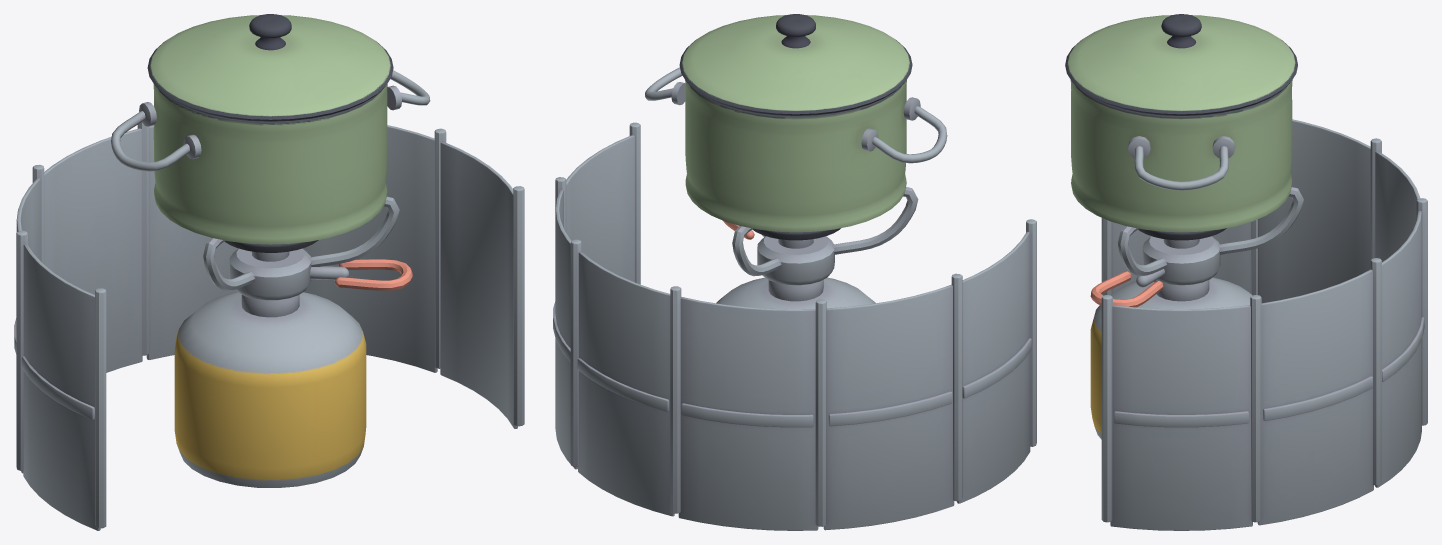
Rendered from camping-stove.glb.
3 renders of one model, left to right at view 1: azimuth 30°, elevation 25°; view 2: azimuth 150°, elevation 25°; view 3: azimuth 270°, elevation 25°, orthographic. The views are drawn at different scales.
Parts seen in each view (by area): view 1: camping-stove_body, camping-stove_lid; view 2: camping-stove_body, camping-stove_lid; view 3: camping-stove_body, camping-stove_lid.
Boxes of the visible parts, <box> form: camping-stove_body: <box>14,70,524,530</box>; camping-stove_lid: <box>147,14,393,121</box>; camping-stove_body: <box>553,67,1036,530</box>; camping-stove_lid: <box>679,14,912,115</box>; camping-stove_body: <box>1070,80,1427,530</box>; camping-stove_lid: <box>1065,14,1297,115</box>.
Bounding box in the file's own units: 0.2987 × 0.2785 × 0.2232.
4 materials, 2 textured.
